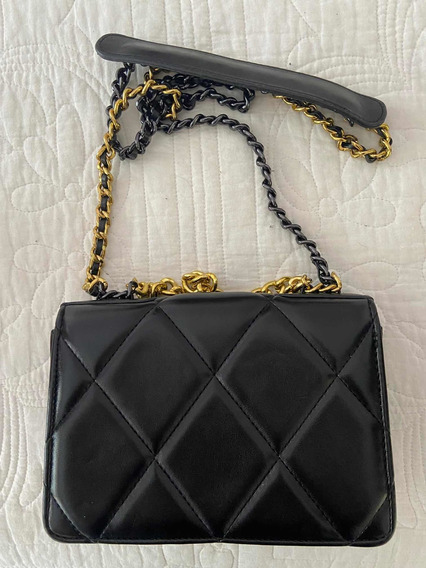cartera: (44, 287, 398, 549)
